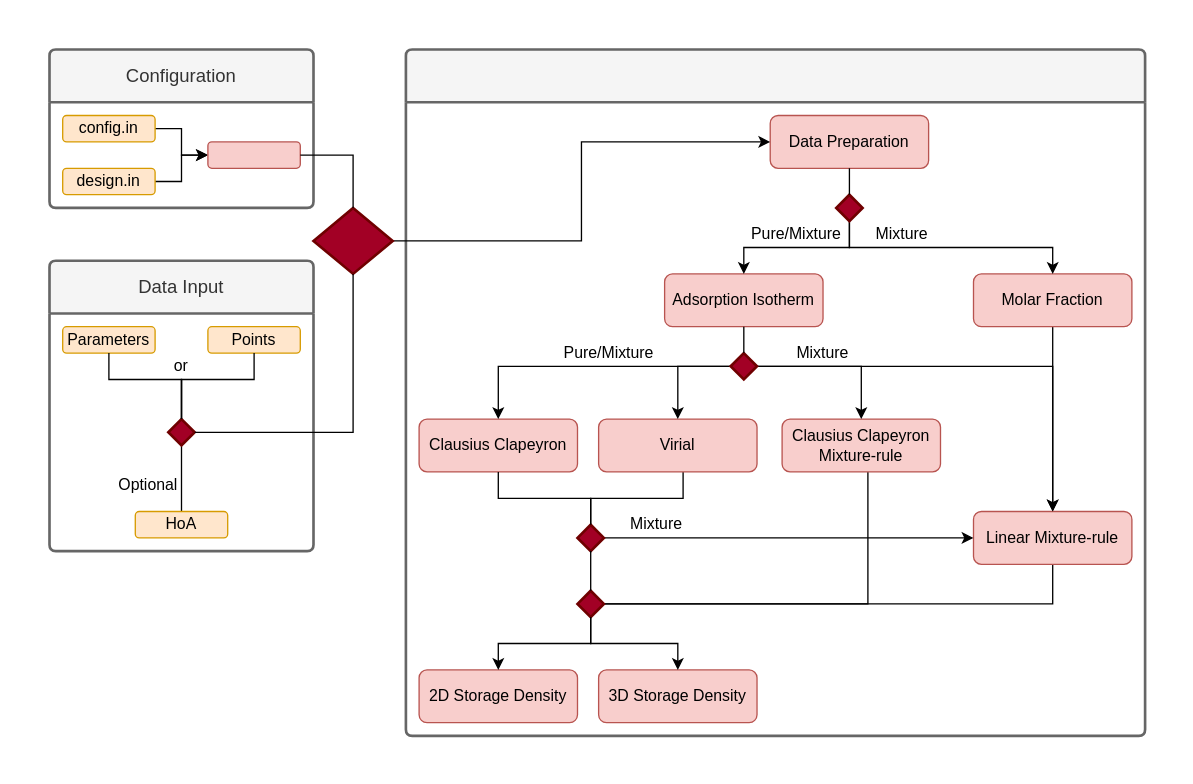
Some shapes in this 1193 by 784 pixel diagram are drawn without their labels. Each missing label, with the centre of its shape:
"Code" belongs at (x=775, y=392).
"Input.py" belongs at (x=253, y=154).
"run.py" belongs at (x=352, y=240).
